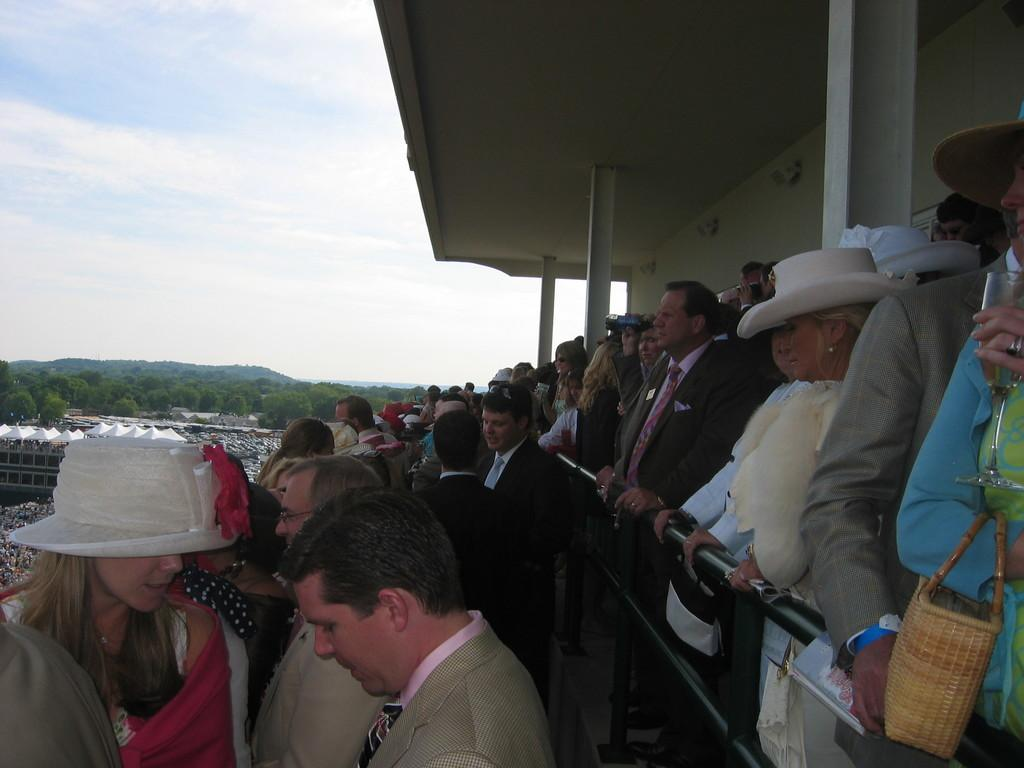Hat: (7, 442, 238, 558), (737, 247, 909, 341), (931, 106, 1023, 214), (839, 225, 978, 286), (326, 421, 372, 457), (354, 430, 406, 460), (487, 368, 508, 384)
